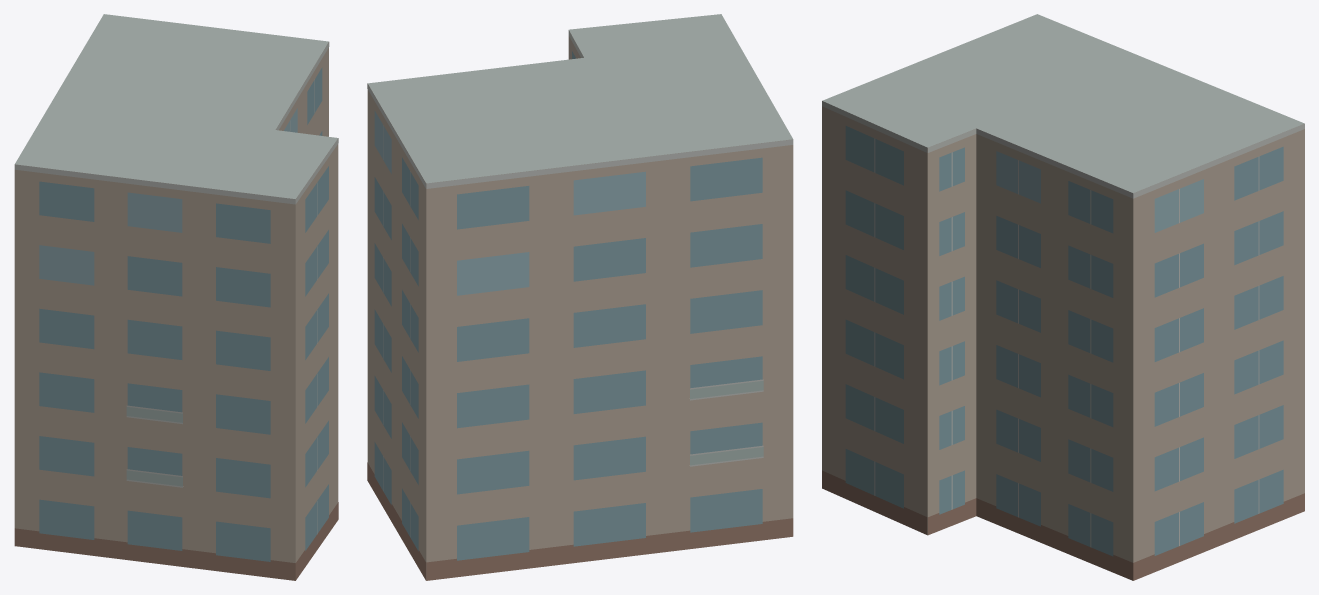
The model's file is survey-upis-32892570.glb.
3 views of the same model, side by side, from view 1: azimuth 30°, elevation 25°; view 2: azimuth 150°, elevation 25°; view 3: azimuth 270°, elevation 25° (orthographic). The views are drawn at different scales.
Parts seen in each view (by area): view 1: survey-upis-32892570.tmp; view 2: survey-upis-32892570.tmp; view 3: survey-upis-32892570.tmp.
Boxes of the visible parts, x1,y1,x2,y2 form: survey-upis-32892570.tmp: [14, 14, 338, 580]; survey-upis-32892570.tmp: [367, 14, 793, 580]; survey-upis-32892570.tmp: [822, 14, 1304, 580].
Size of the model in its own units: 17.26 by 17.4 by 19.64.
